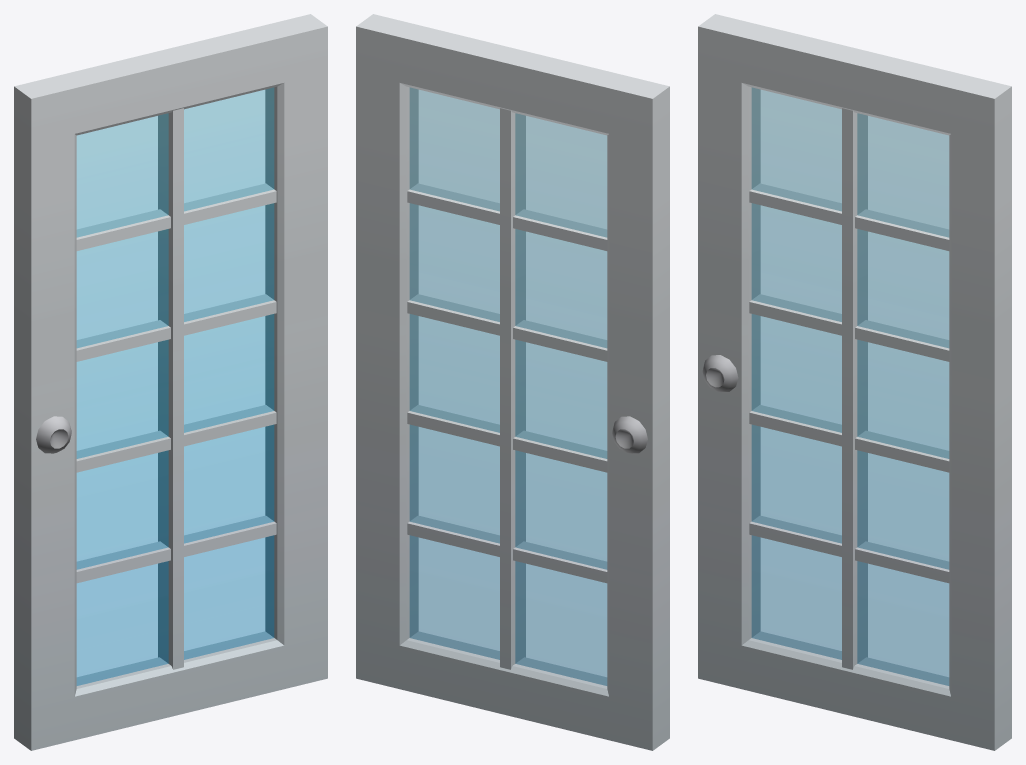
The model's file is Door_White_06.glb.
3 renders of one model, left to right at view 1: azimuth 30°, elevation 25°; view 2: azimuth 150°, elevation 25°; view 3: azimuth 330°, elevation 25°, orthographic.
Visible parts, largest first — view 1: Door_White_06; view 2: Door_White_06; view 3: Door_White_06.
Boxes of the visible parts, <box> form: Door_White_06: <box>14,14,327,750</box>; Door_White_06: <box>356,14,669,750</box>; Door_White_06: <box>698,14,1011,750</box>.
Bounding box in the file's own units: 1 × 2.1 × 0.1634.
Materials: 2 (2 with a texture image).
